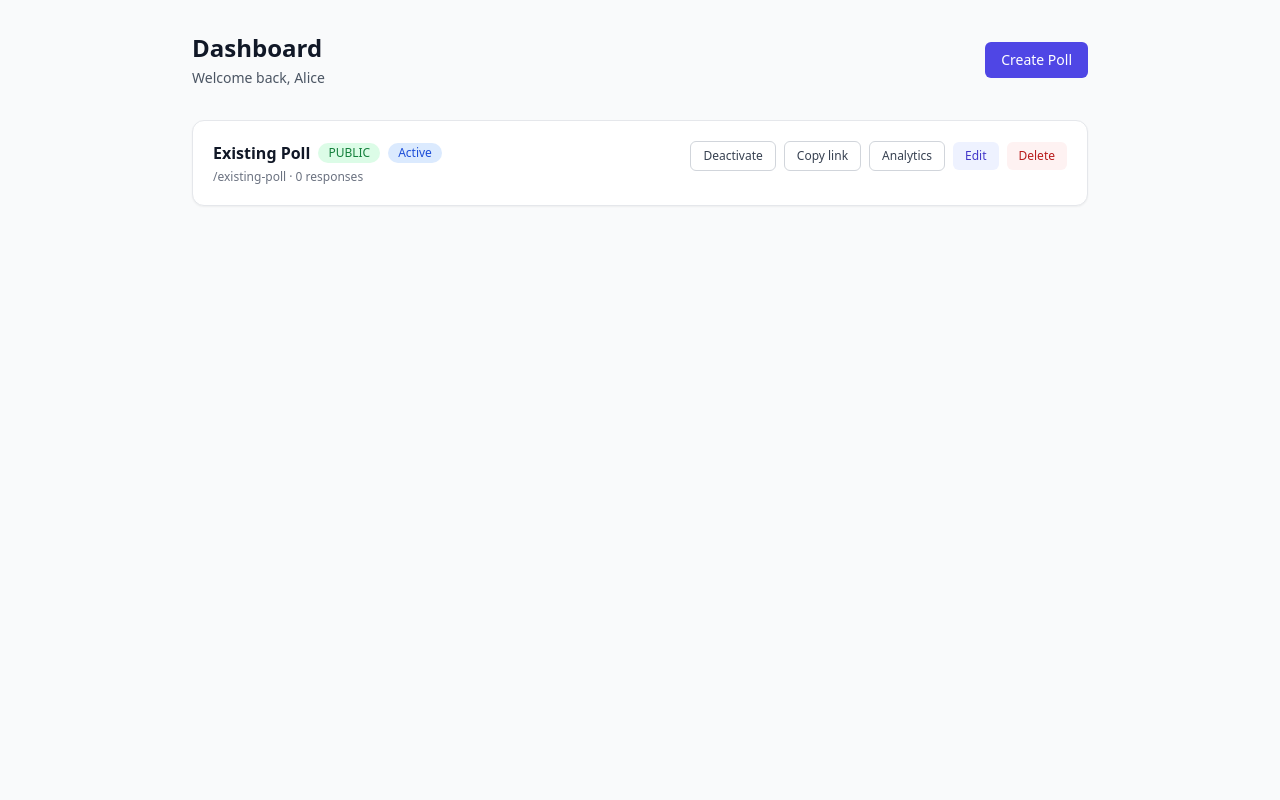
Test case: DashboardPage › opens edit modal pre-populated with poll data
Expected: the heading "Existing Poll" is shown, [213,141,310,165]
Click the button "Edit". click: (976, 156)
box: [953,142,998,170]
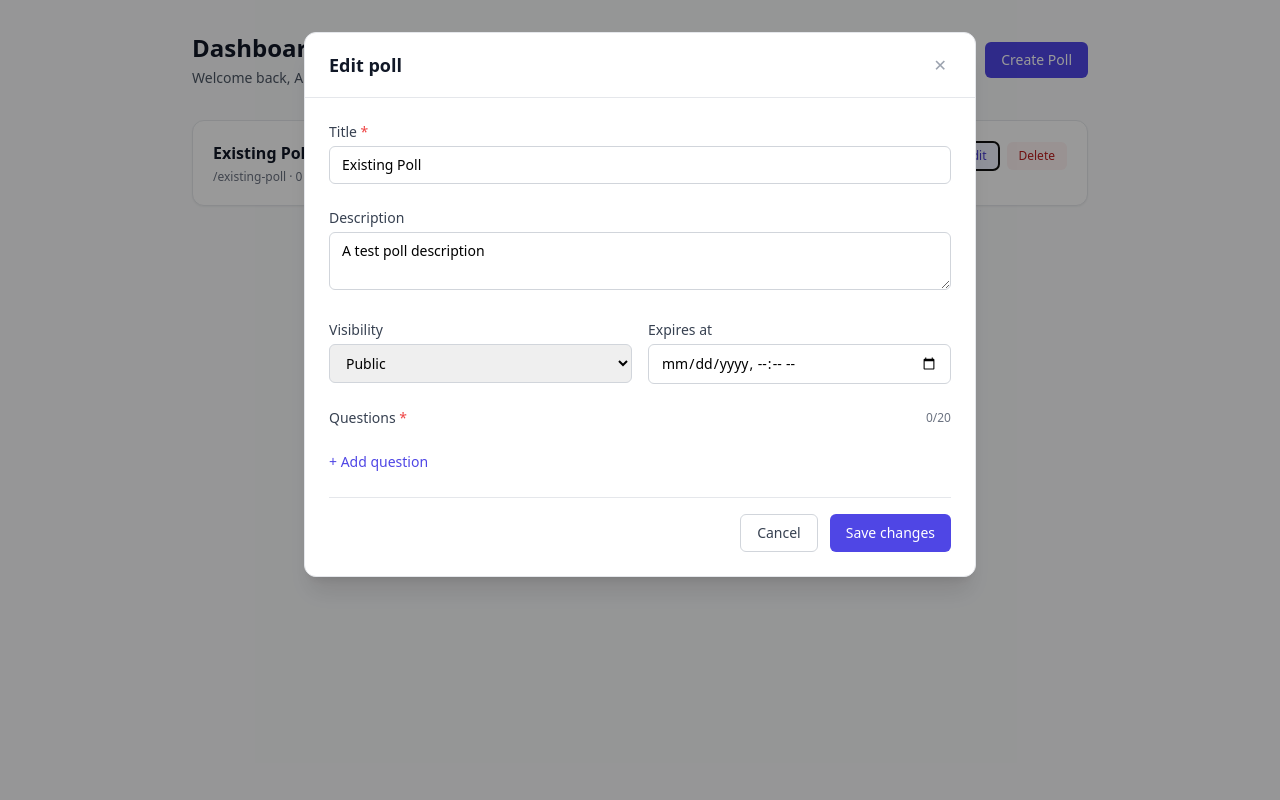
Now the dialog "Edit poll" is shown
Now the field showing "Existing Poll" below "Title" is shown, box [329,146,951,184]
